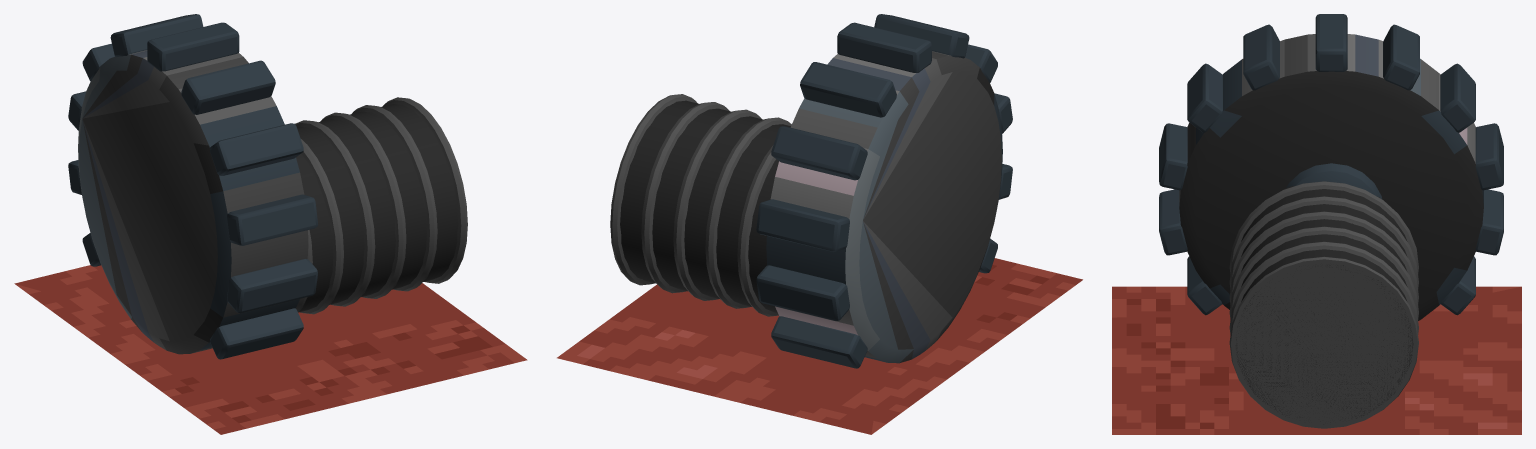
The model's file is miners_roller_l.glb.
3 views of the same model, side by side, from view 1: azimuth 30°, elevation 25°; view 2: azimuth 150°, elevation 25°; view 3: azimuth 270°, elevation 25° (orthographic). The views are drawn at different scales.
Parts seen in each view (by area): view 1: miners_roller_l_wheel, miners_roller_l_ground, miners_roller_l_roller, miners_roller_l_tooth4, miners_roller_l_tooth7, miners_roller_l_tooth6, miners_roller_l_tooth5, miners_roller_l_tooth3, miners_roller_l_tooth8, miners_roller_l_rib4, miners_roller_l_rib3, miners_roller_l_rib2 (+4 smaller); view 2: miners_roller_l_wheel, miners_roller_l_ground, miners_roller_l_roller, miners_roller_l_tooth2, miners_roller_l_tooth13, miners_roller_l_tooth0, miners_roller_l_tooth1, miners_roller_l_tooth3, miners_roller_l_tooth12, miners_roller_l_rib3, miners_roller_l_rib2, miners_roller_l_rib4 (+4 smaller); view 3: miners_roller_l_wheel, miners_roller_l_ground, miners_roller_l_rib5, miners_roller_l_roller, miners_roller_l_tooth2, miners_roller_l_tooth4, miners_roller_l_tooth1, miners_roller_l_tooth5, miners_roller_l_rib0, miners_roller_l_rib2, miners_roller_l_rib3, miners_roller_l_rib4 (+9 smaller).
Boxes of the visible parts, x1,y1,x2,y2 form: miners_roller_l_wheel: [78, 50, 308, 354]; miners_roller_l_ground: [14, 265, 527, 434]; miners_roller_l_roller: [296, 104, 458, 312]; miners_roller_l_tooth4: [181, 60, 275, 114]; miners_roller_l_tooth7: [227, 259, 317, 313]; miners_roller_l_tooth6: [227, 194, 317, 245]; miners_roller_l_tooth5: [210, 123, 303, 175]; miners_roller_l_tooth3: [147, 22, 239, 71]; miners_roller_l_tooth8: [210, 308, 303, 359]; miners_roller_l_rib4: [352, 105, 437, 291]; miners_roller_l_rib3: [320, 112, 406, 298]; miners_roller_l_rib2: [295, 120, 375, 306]; miners_roller_l_wheel: [766, 51, 1002, 363]; miners_roller_l_ground: [557, 258, 1082, 434]; miners_roller_l_roller: [620, 100, 790, 313]; miners_roller_l_tooth2: [800, 62, 896, 117]; miners_roller_l_tooth13: [756, 265, 849, 320]; miners_roller_l_tooth0: [756, 199, 849, 251]; miners_roller_l_tooth1: [771, 126, 867, 180]; miners_roller_l_tooth3: [837, 22, 931, 72]; miners_roller_l_tooth12: [771, 316, 867, 368]; miners_roller_l_rib3: [673, 109, 761, 300]; miners_roller_l_rib2: [705, 117, 791, 308]; miners_roller_l_rib4: [641, 102, 729, 293]; miners_roller_l_wheel: [1179, 34, 1483, 320]; miners_roller_l_ground: [1112, 286, 1521, 434]; miners_roller_l_rib5: [1229, 256, 1418, 428]; miners_roller_l_roller: [1235, 186, 1413, 424]; miners_roller_l_tooth2: [1383, 24, 1419, 90]; miners_roller_l_tooth4: [1243, 24, 1279, 90]; miners_roller_l_tooth1: [1440, 63, 1475, 132]; miners_roller_l_tooth5: [1187, 63, 1222, 132]; miners_roller_l_rib0: [1229, 181, 1418, 274]; miners_roller_l_rib2: [1229, 211, 1418, 304]; miners_roller_l_rib3: [1229, 226, 1418, 319]; miners_roller_l_rib4: [1229, 241, 1418, 334].
Size of the model in its own units: 23.98 by 22.3 by 27.98.
